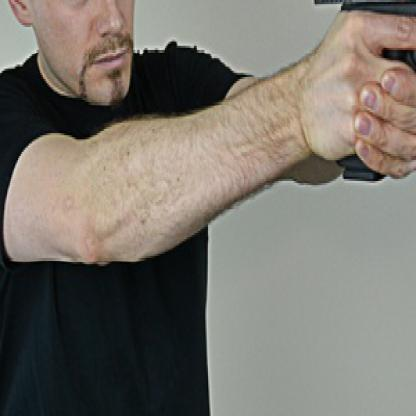gun: (312, 0, 415, 190)
